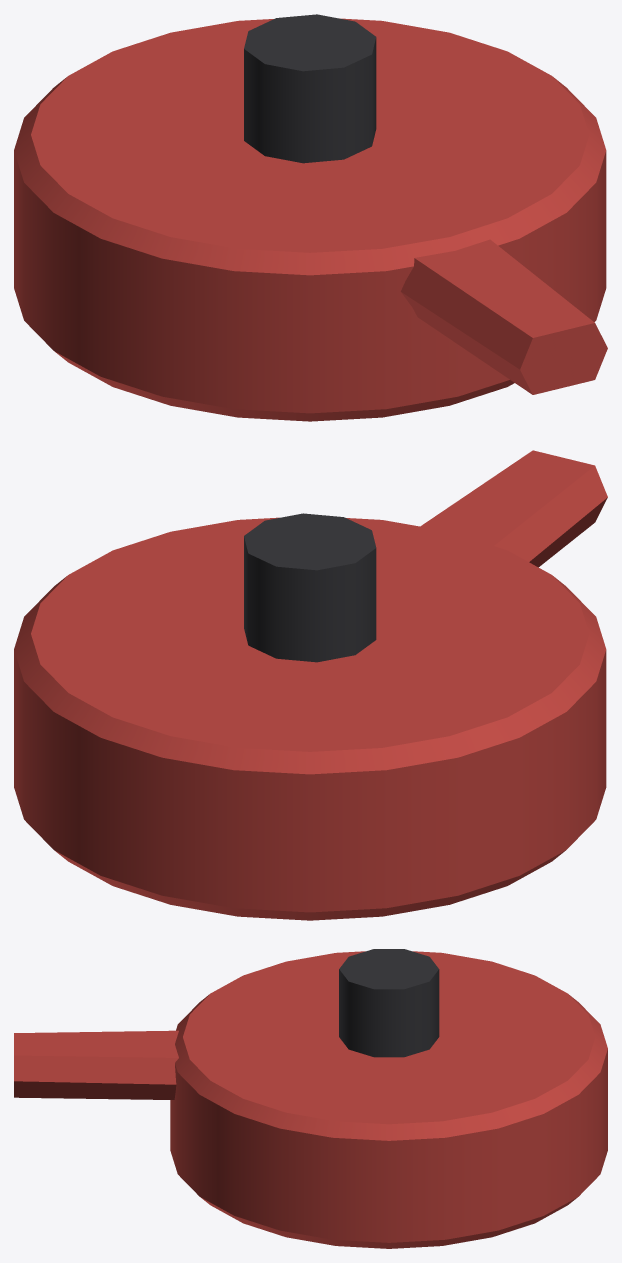
The model's file is rotary.glb.
3 views of the same model, one above another, from view 1: azimuth 30°, elevation 25°; view 2: azimuth 150°, elevation 25°; view 3: azimuth 270°, elevation 25° (orthographic). The views are drawn at different scales.
Visible parts, largest first — view 1: lod0; view 2: lod0; view 3: lod0.
Part boxes in pixels (x1,y1,x2,y2): lod0: [14, 14, 607, 421]; lod0: [14, 450, 607, 920]; lod0: [14, 949, 607, 1248].
Size of what is drawn, in the model's own units: 0.07 by 0.034 by 0.095.
